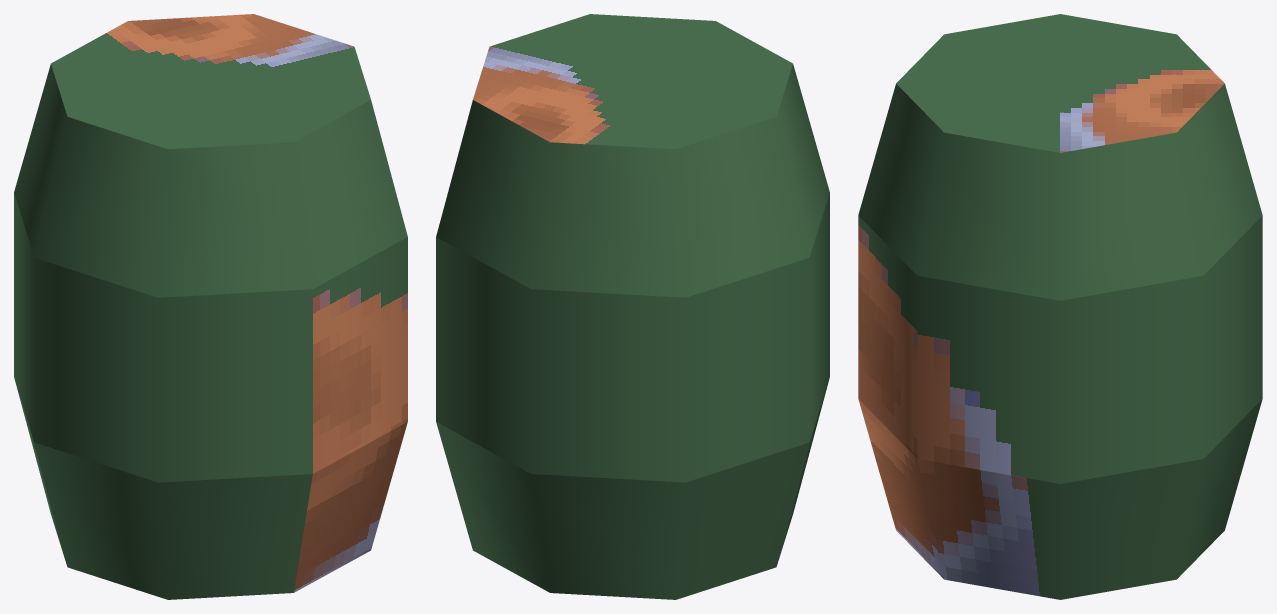
Rendered from detail_barrel.dae.
3 renders of one model, left to right at view 1: azimuth 30°, elevation 25°; view 2: azimuth 150°, elevation 25°; view 3: azimuth 270°, elevation 25°, orthographic.
Visible parts, largest first — view 1: detail_barrel; view 2: detail_barrel; view 3: detail_barrel.
Part boxes in pixels (x1=…): detail_barrel: x1=14, y1=14, x2=407, y2=599; detail_barrel: x1=436, y1=14, x2=829, y2=599; detail_barrel: x1=858, y1=14, x2=1262, y2=599.
Bounding box in the file's own units: 0.246 × 0.3 × 0.246.
